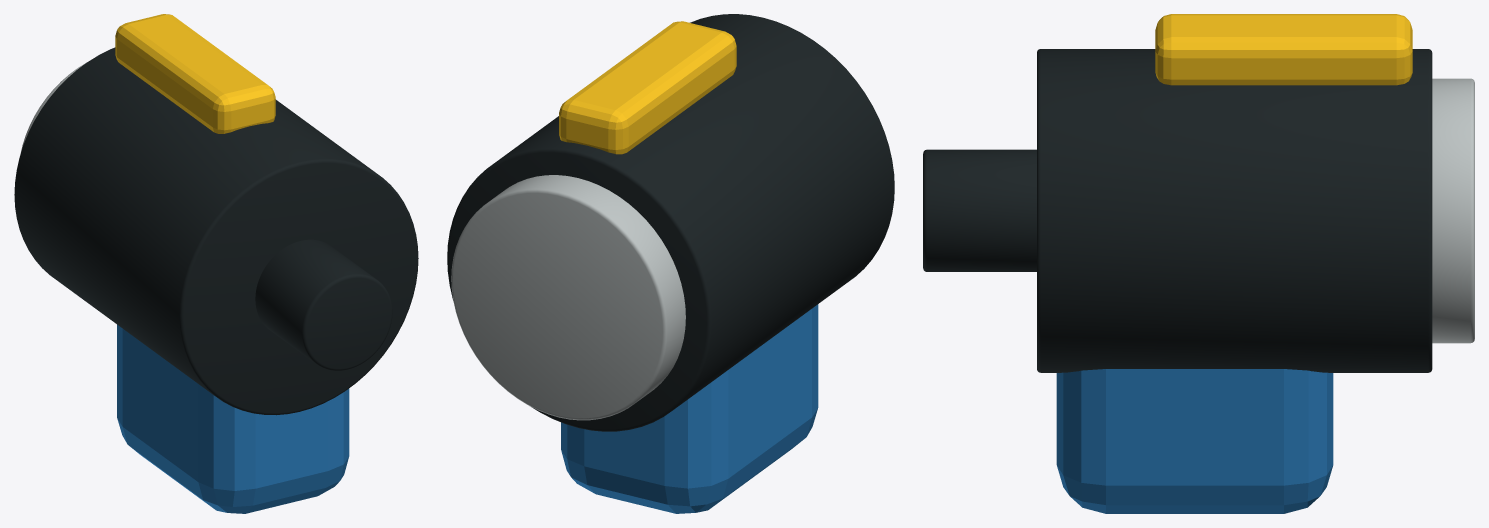
File: connector_latch.glb
The picture shows the model from 3 angles, left to right: view 1: azimuth 30°, elevation 25°; view 2: azimuth 150°, elevation 25°; view 3: azimuth 270°, elevation 25°; orthographic projection. The views are drawn at different scales.
Parts seen in each view (by area): view 1: CONNECTOR_shell, CONNECTOR_grip, CONNECTOR_cable_gland, CONNECTOR_LATCH; view 2: CONNECTOR_shell, CONNECTOR_nose, CONNECTOR_grip, CONNECTOR_LATCH; view 3: CONNECTOR_shell, CONNECTOR_grip, CONNECTOR_LATCH, CONNECTOR_cable_gland, CONNECTOR_nose.
Boxes of the visible parts, bbox=[...] form: CONNECTOR_shell: bbox=[14, 47, 418, 415]; CONNECTOR_grip: bbox=[117, 324, 349, 513]; CONNECTOR_cable_gland: bbox=[255, 239, 392, 370]; CONNECTOR_LATCH: bbox=[115, 14, 275, 133]; CONNECTOR_shell: bbox=[447, 14, 894, 431]; CONNECTOR_nose: bbox=[451, 175, 685, 420]; CONNECTOR_grip: bbox=[561, 304, 818, 513]; CONNECTOR_LATCH: bbox=[559, 21, 736, 154]; CONNECTOR_shell: bbox=[1037, 49, 1432, 372]; CONNECTOR_grip: bbox=[1056, 369, 1333, 513]; CONNECTOR_LATCH: bbox=[1155, 14, 1412, 85]; CONNECTOR_cable_gland: bbox=[923, 149, 1036, 271]; CONNECTOR_nose: bbox=[1432, 78, 1474, 343].
Size of the model in its own units: 0.164 by 0.258 by 0.279.
